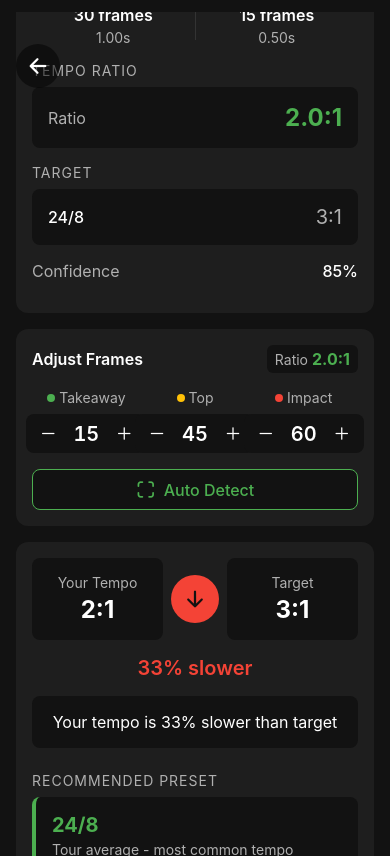
AnalysisScreen › save functionality › should show success message after save
(page scrolled)
Expected: the element with test id "frame-adjuster" is shown, [16,329,374,526]
// Make an adjustment
Click the button with test id "takeaway-increment": (124, 434) [106,414,142,453]
(page scrolled)
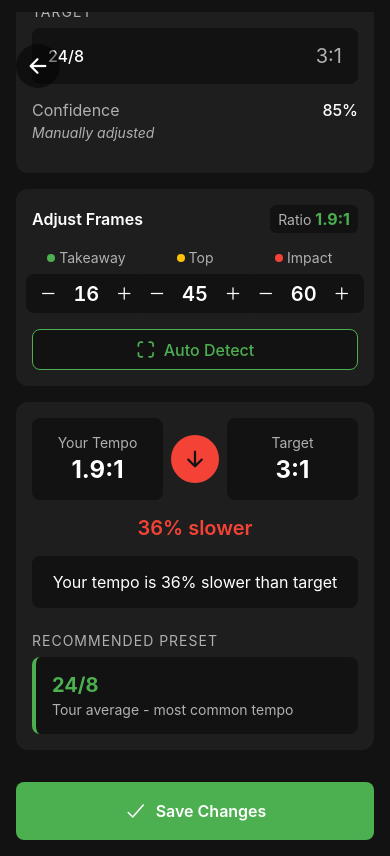
// Press save
Click the button with test id "save-button": (195, 811) [16,782,374,840]
(page scrolled)
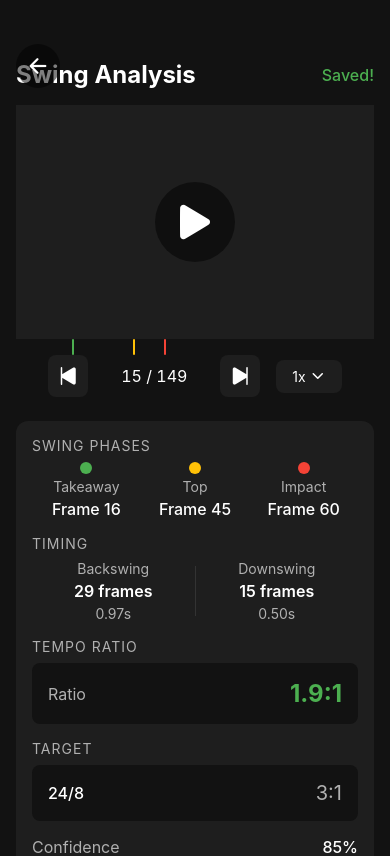
Expected: the text "Saved!" is shown, [322,64,374,84]
